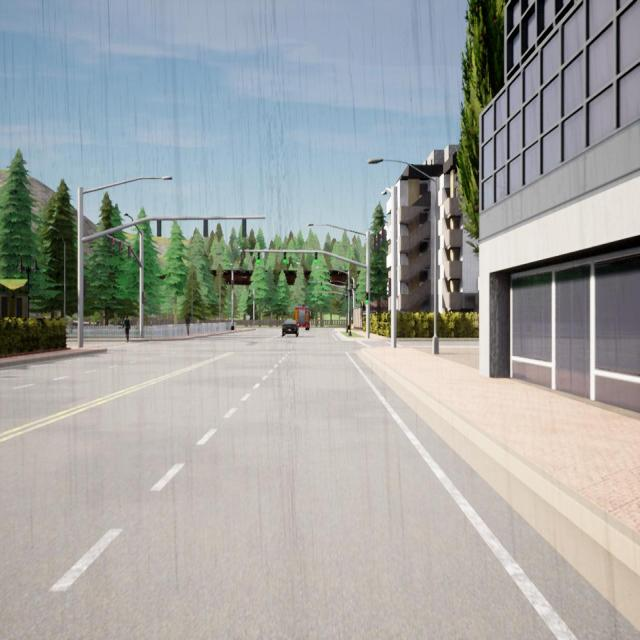Pedestrian: (123, 316, 131, 342), (184, 314, 191, 334)
Traffic_Signs: (246, 314, 250, 320)
Vehicle: (294, 305, 310, 330), (282, 319, 298, 337)
traffic_light: (386, 278, 392, 296), (156, 220, 162, 237), (203, 218, 208, 238), (242, 218, 247, 237), (372, 236, 377, 251), (381, 228, 385, 246), (376, 232, 380, 248), (111, 238, 115, 253), (119, 241, 123, 255), (128, 246, 132, 259), (283, 252, 287, 264), (142, 292, 146, 304), (314, 252, 318, 263), (257, 252, 260, 264), (366, 293, 368, 304), (309, 291, 312, 298), (333, 292, 335, 298), (320, 292, 322, 298), (321, 282, 322, 289)
